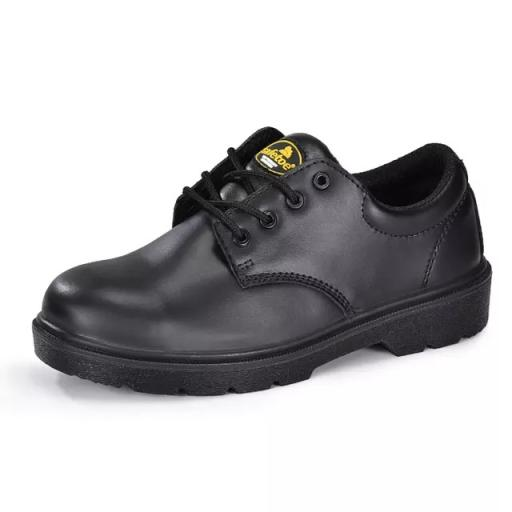safety_boots: (26, 133, 492, 412)
